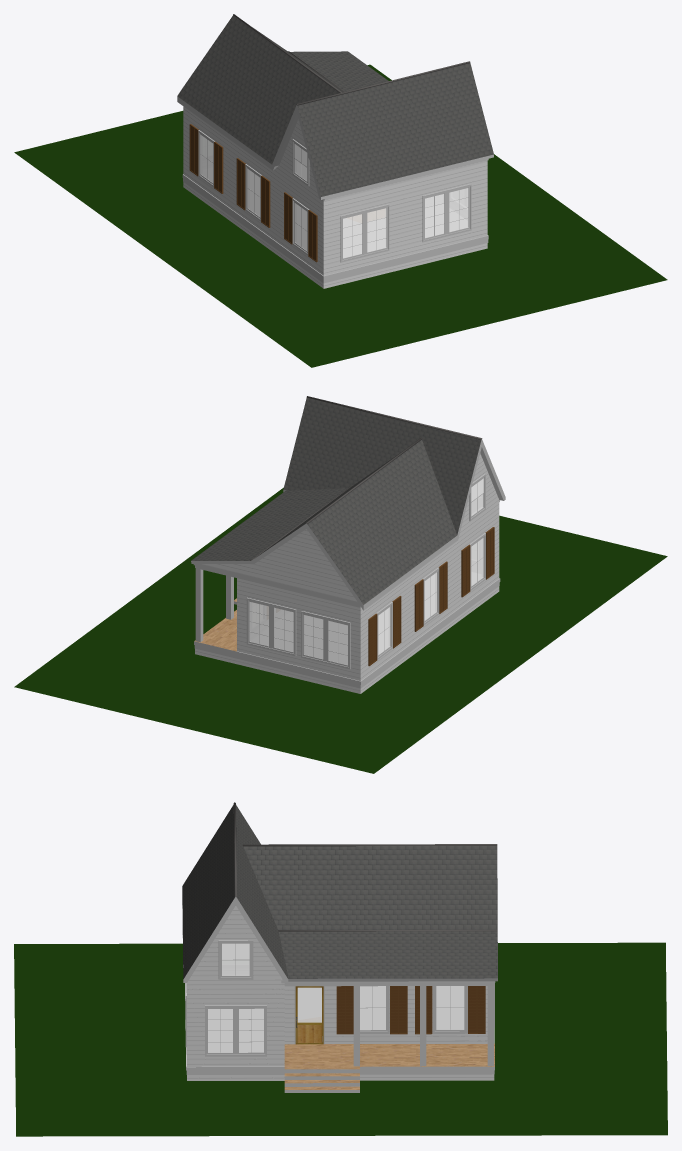
The model's file is house.glb.
3 views of the same model, one above another, from view 1: azimuth 30°, elevation 25°; view 2: azimuth 150°, elevation 25°; view 3: azimuth 270°, elevation 25° (orthographic). The views are drawn at different scales.
Parts seen in each view (by area): view 1: Object_2, Object_12, Object_7, Object_3, Object_10, Object_8, Object_9; view 2: Object_2, Object_12, Object_7, Object_3, Object_10, Object_8, Object_9, Object_11; view 3: Object_2, Object_12, Object_7, Object_3, Object_10, Object_11, Object_8, Object_9.
Part boxes in pixels (left/top/right/bottom): Object_2: left=14, top=64, right=667, bottom=367; Object_12: left=177, top=14, right=493, bottom=196; Object_7: left=183, top=106, right=487, bottom=288; Object_3: left=177, top=96, right=493, bottom=283; Object_10: left=201, top=135, right=468, bottom=258; Object_8: left=190, top=126, right=315, bottom=260; Object_9: left=189, top=124, right=317, bottom=262; Object_2: left=14, top=487, right=667, bottom=773; Object_12: left=191, top=396, right=482, bottom=604; Object_7: left=195, top=453, right=499, bottom=693; Object_3: left=191, top=439, right=505, bottom=688; Object_10: left=249, top=478, right=483, bottom=664; Object_8: left=370, top=529, right=493, bottom=664; Object_9: left=368, top=527, right=494, bottom=666; Object_11: left=194, top=598, right=236, bottom=651; Object_2: left=14, top=942, right=667, bottom=1136; Object_12: left=182, top=802, right=497, bottom=978; Object_7: left=186, top=905, right=494, bottom=1080; Object_3: left=182, top=896, right=497, bottom=1092; Object_10: left=208, top=943, right=464, bottom=1052; Object_11: left=284, top=1043, right=494, bottom=1089; Object_8: left=337, top=986, right=484, bottom=1033; Object_9: left=336, top=986, right=485, bottom=1034.
Size of the model in its own units: 4.62 by 2.43 by 6.59.
11 materials, 6 textured.
